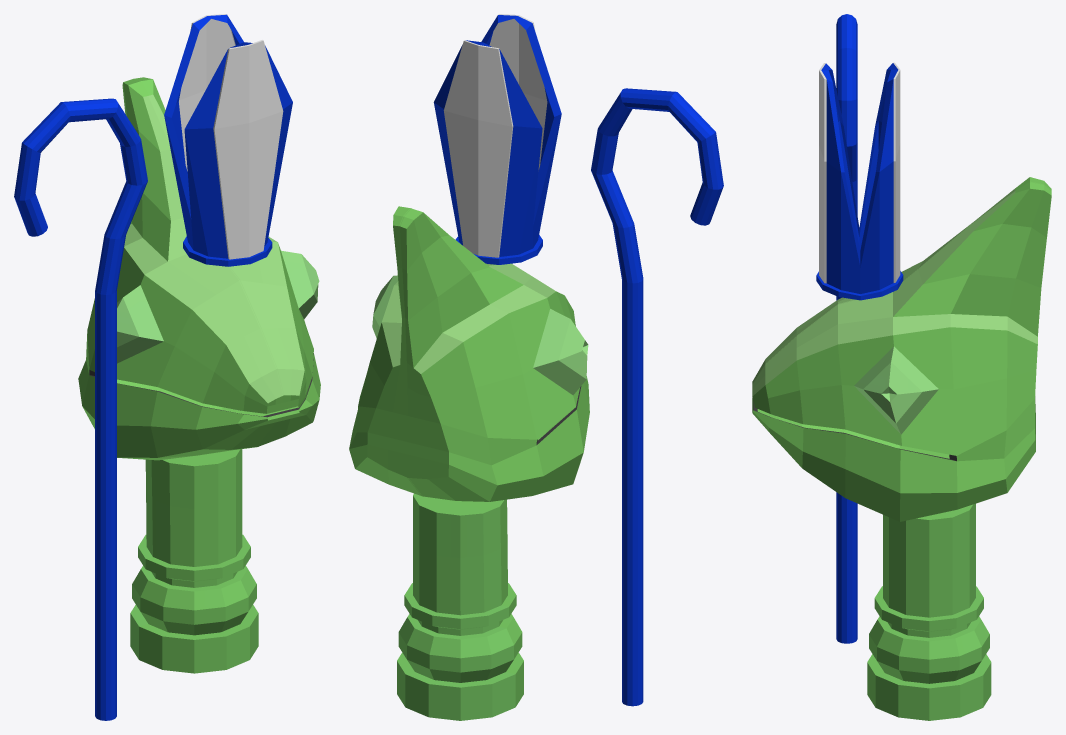
File: BishopGoat.fbx
The picture shows the model from 3 angles, left to right: view 1: azimuth 30°, elevation 25°; view 2: azimuth 150°, elevation 25°; view 3: azimuth 270°, elevation 25°; orthographic projection. The views are drawn at different scales.
Parts seen in each view (by area): view 1: Cube.001; view 2: Cube.001; view 3: Cube.001.
Part boxes in pixels (<box>): Cube.001: <box>14,14,320,720</box>; Cube.001: <box>349,14,723,720</box>; Cube.001: <box>752,14,1051,720</box>.
Size of the model in its own units: 90.38 by 171 by 73.85.
Materials: 2 (1 with a texture image).
